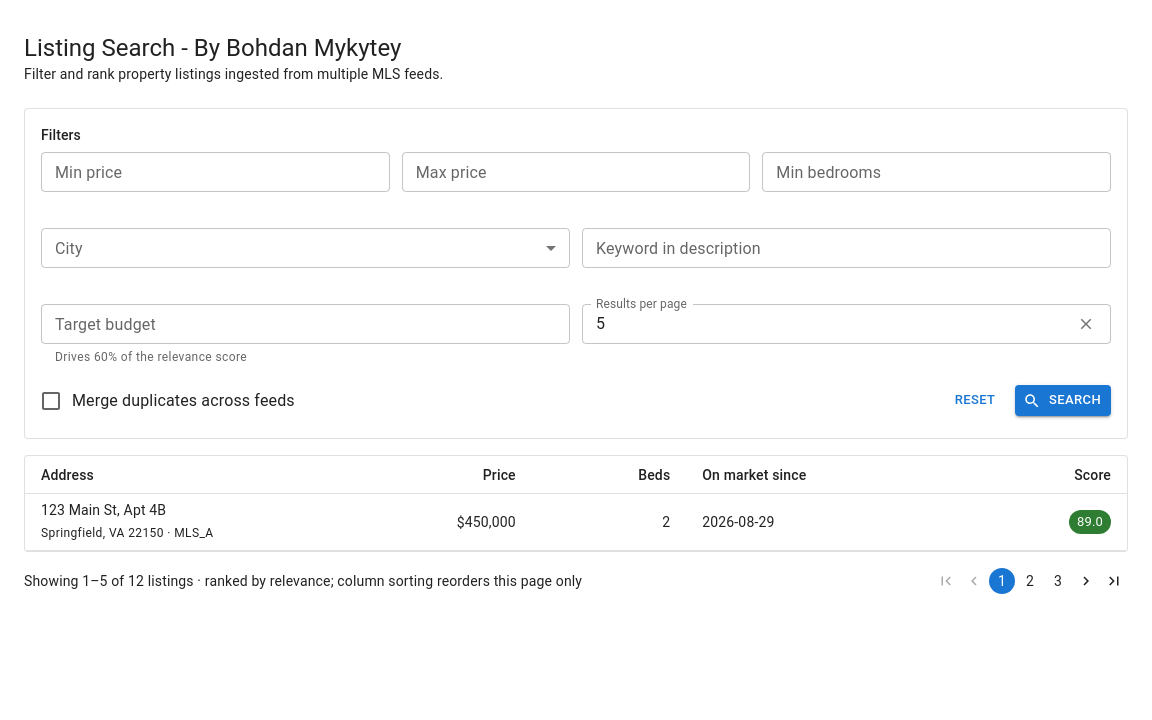
pagination › renders the rows returned for the requested page
Expected: the text "123 Main St, Apt 4B" is shown, [41,502,166,518]
Click the button named "go to page 2" at (1030,581), box [1017,568,1043,594]
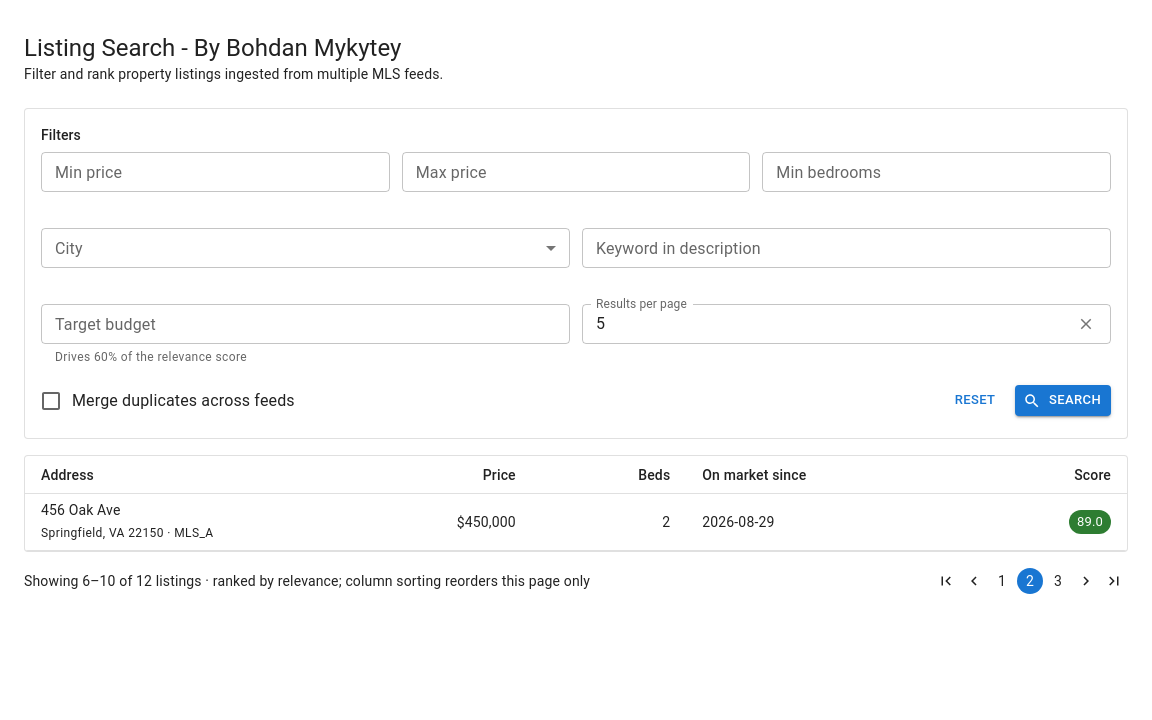
Result: the text "456 Oak Ave" is shown at [41,502,120,518]
Result: the text "123 Main St, Apt 4B" is gone
